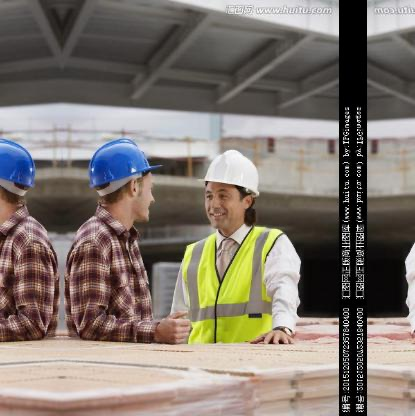Safety Helmet: (81, 133, 170, 231), (193, 146, 263, 233), (1, 127, 43, 215)
